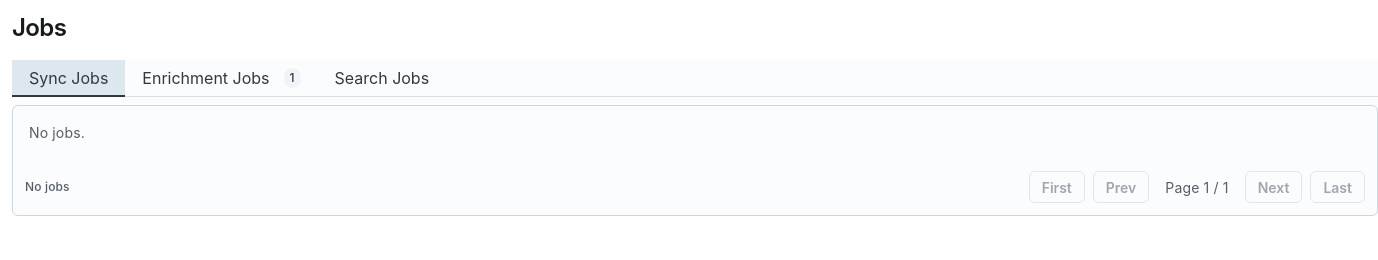
AdminJobsPage › displays enrichment job details on Enrichment tab
Click the tab "Enrichment Jobs 1". click: [221, 78]
box: [125,60,318,96]
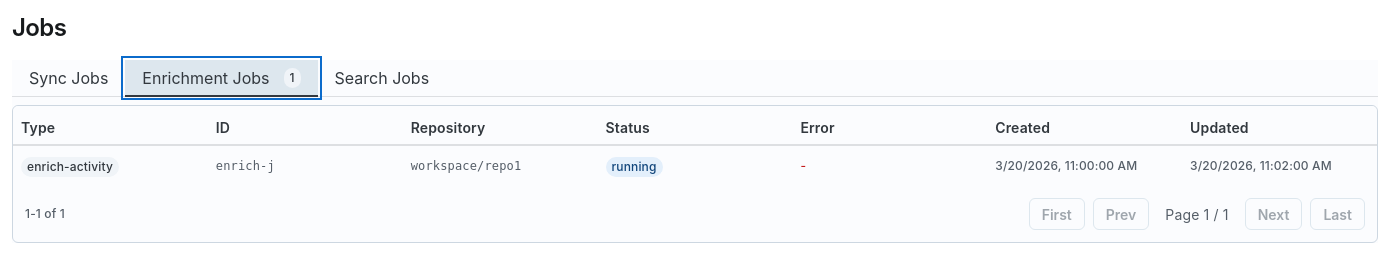
Now the text "enrich-activity" is shown, box [27,158,113,176]
Now the text "workspace/repo1" is shown, box [411,159,521,173]
Now the text "running" is shown, box [612,158,656,176]
